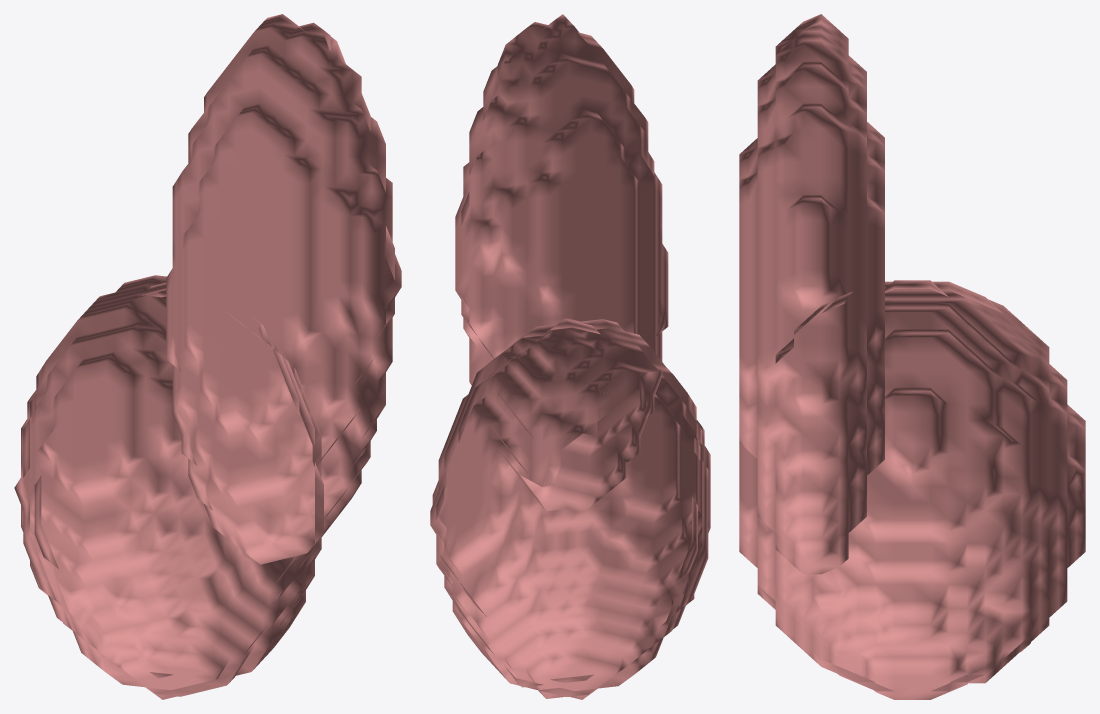
File: 199514_occ.glb
The picture shows the model from 3 angles, left to right: view 1: azimuth 30°, elevation 25°; view 2: azimuth 150°, elevation 25°; view 3: azimuth 270°, elevation 25°; orthographic projection. The views are drawn at different scales.
Parts seen in each view (by area): view 1: world; view 2: world; view 3: world.
Part boxes in pixels (x1=…): world: x1=14, y1=14, x2=401, y2=699; world: x1=430, y1=14, x2=710, y2=699; world: x1=739, y1=14, x2=1085, y2=699.
Bounding box in the file's own units: 1.9 × 4.2 × 1.9.
